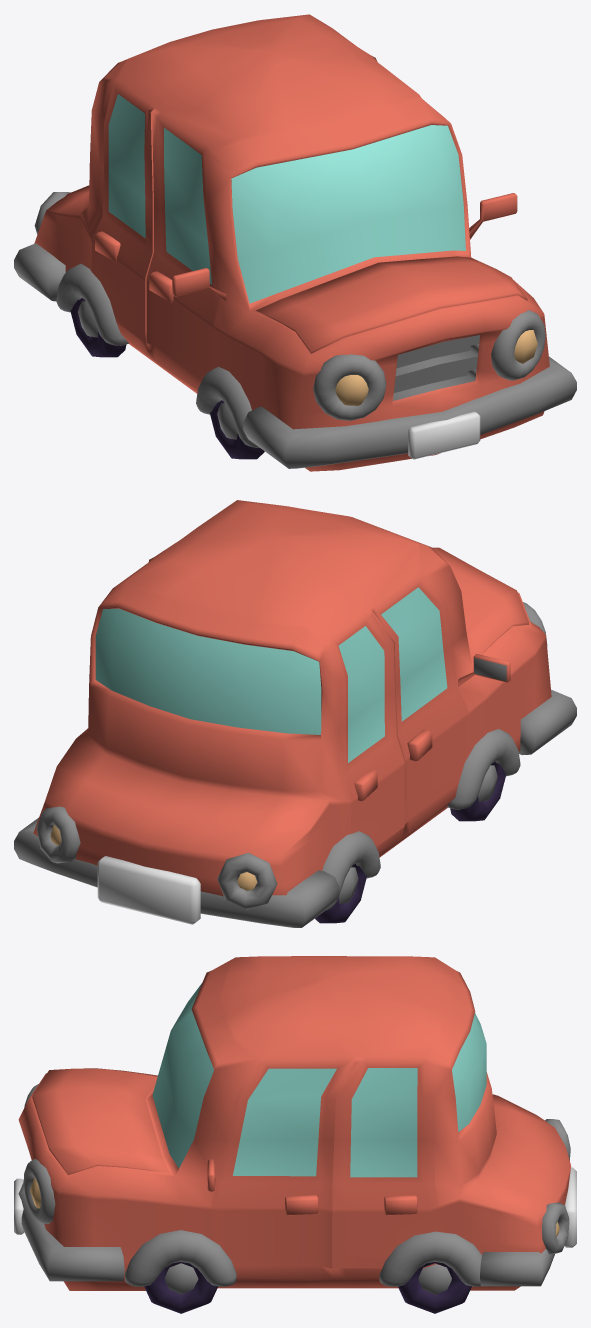
The model's file is props_car.fbx.
3 views of the same model, one above another, from view 1: azimuth 30°, elevation 25°; view 2: azimuth 150°, elevation 25°; view 3: azimuth 270°, elevation 25° (orthographic). The views are drawn at different scales.
Visible parts, largest first — view 1: Cube.008; view 2: Cube.008; view 3: Cube.008.
Boxes of the visible parts, x1=… form: Cube.008: x1=14, y1=14, x2=576, y2=471; Cube.008: x1=14, y1=500, x2=576, y2=927; Cube.008: x1=14, y1=956, x2=576, y2=1313.
Bounding box in the file's own units: 4.41 × 6.89 × 3.9.
